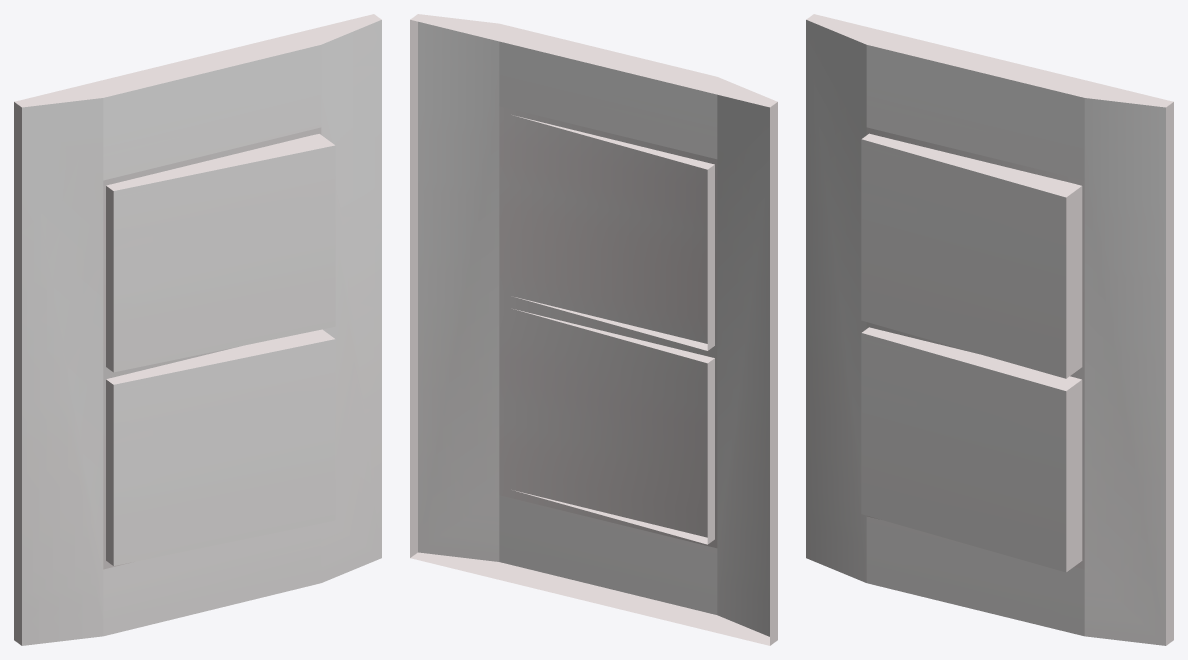
The model's file is Doll_Room_Switch_001.FBX.
The picture shows the model from 3 angles, left to right: view 1: azimuth 30°, elevation 25°; view 2: azimuth 150°, elevation 25°; view 3: azimuth 330°, elevation 25°; orthographic projection.
Visible parts, largest first — view 1: Doll_Room_Switch_001; view 2: Doll_Room_Switch_001; view 3: Doll_Room_Switch_001.
Part boxes in pixels (x1,y1,x2,y2): Doll_Room_Switch_001: [14, 14, 381, 645]; Doll_Room_Switch_001: [410, 14, 777, 645]; Doll_Room_Switch_001: [806, 14, 1173, 645].
Size of the model in its own units: 10.68 by 15.27 by 1.78.
